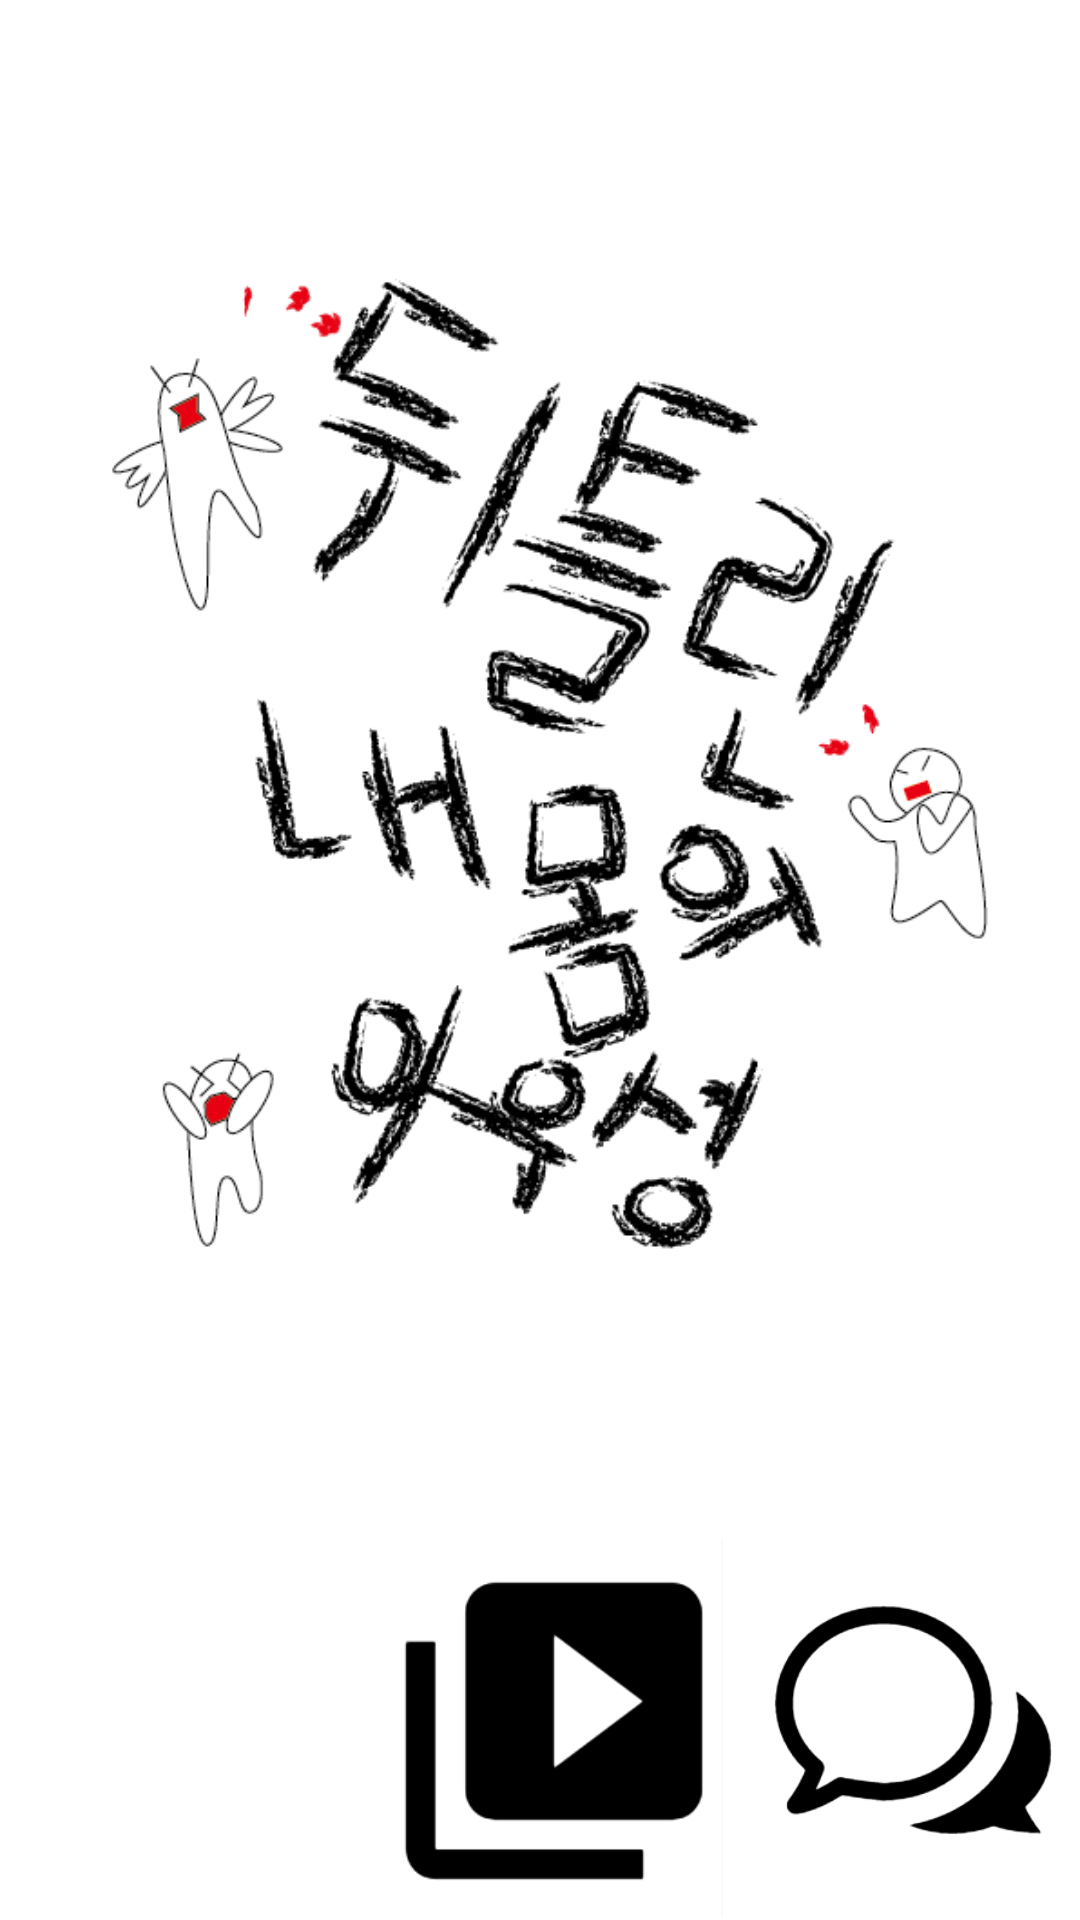

Icon click points for this 1080x1920 phone screenshot, format point (x, y):
talkbot: point (913, 1720)
vedio: point (554, 1731)
